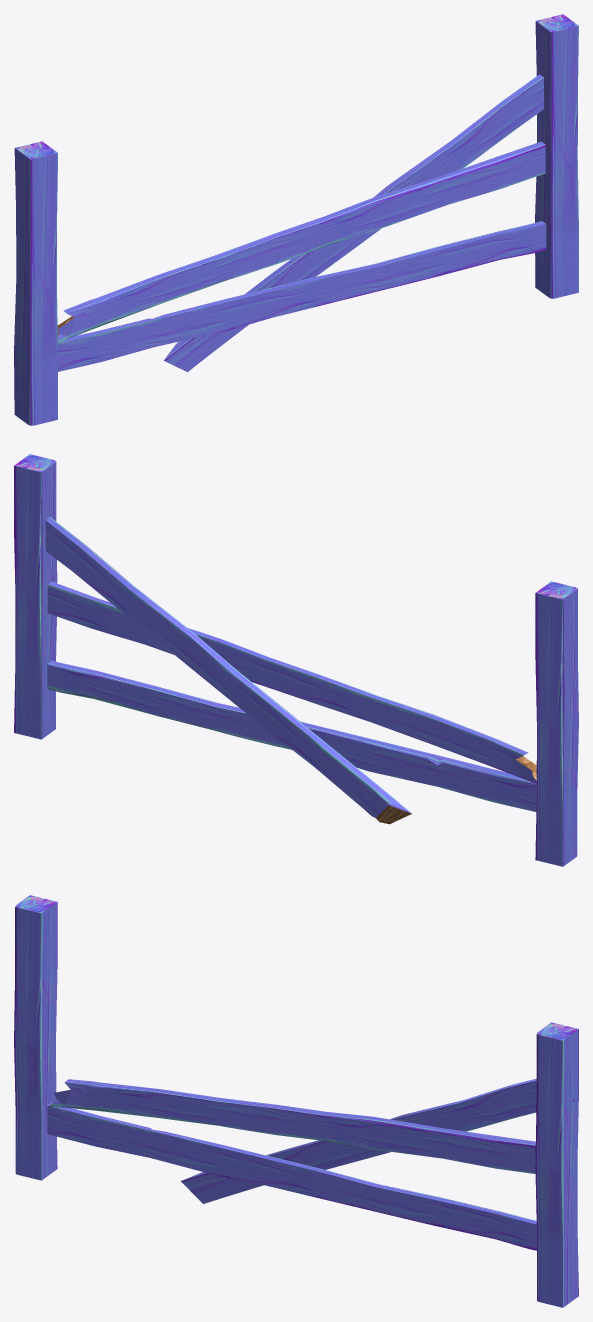
File: SM_WoodenFence_A_03.fbx
3 renders of one model, top to bottom at view 1: azimuth 30°, elevation 25°; view 2: azimuth 150°, elevation 25°; view 3: azimuth 330°, elevation 25°, orthographic.
Parts seen in each view (by area): view 1: SM_WoodenFence_A_03_LOD0; view 2: SM_WoodenFence_A_03_LOD0; view 3: SM_WoodenFence_A_03_LOD0.
Boxes of the visible parts, <box> form: SM_WoodenFence_A_03_LOD0: <box>14,14,578,425</box>; SM_WoodenFence_A_03_LOD0: <box>14,454,578,866</box>; SM_WoodenFence_A_03_LOD0: <box>14,895,578,1307</box>.
Size of the model in its own units: 264 by 122 by 18.29.
